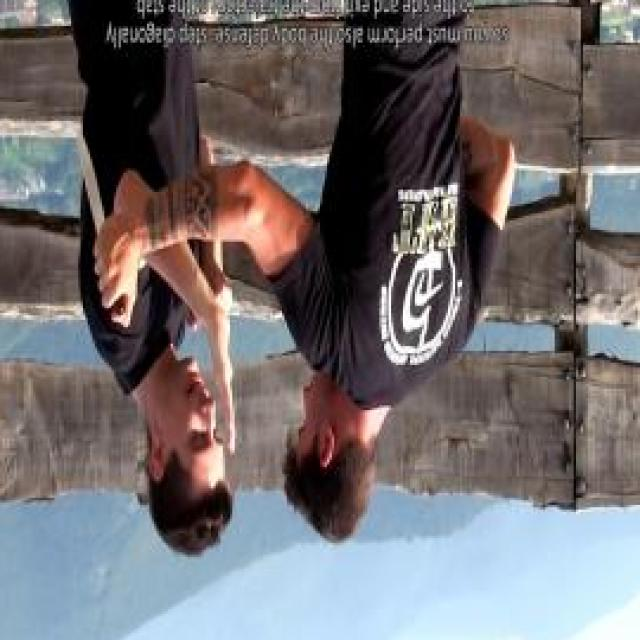knife: (75, 117, 140, 332)
